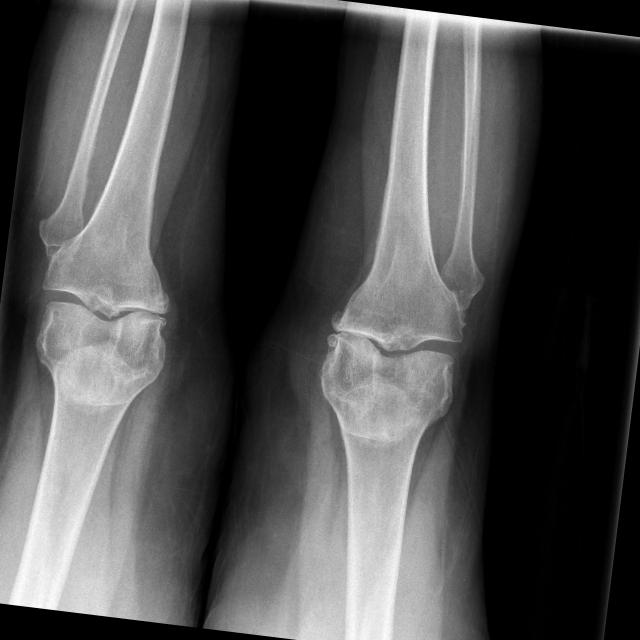Knee: (318, 279, 470, 417), (32, 243, 182, 380)
